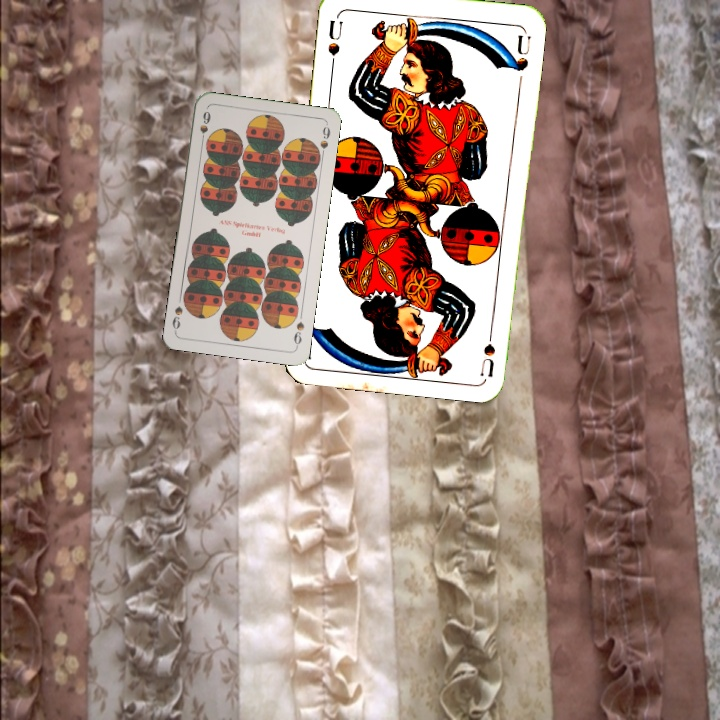S9: (196, 107, 213, 147), (290, 318, 307, 350)
SU: (476, 318, 498, 377), (323, 15, 345, 70)
